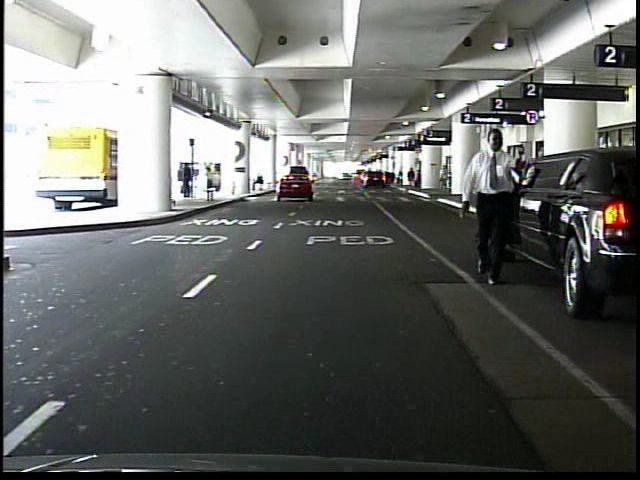person: (462, 123, 526, 287), (181, 160, 195, 199), (438, 166, 451, 193), (253, 170, 266, 193), (408, 167, 417, 190)
